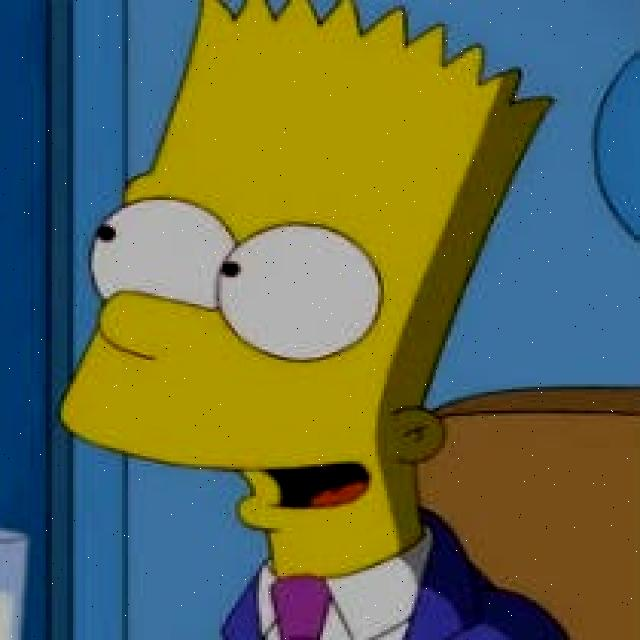Bart Simpson: (52, 0, 564, 584)
